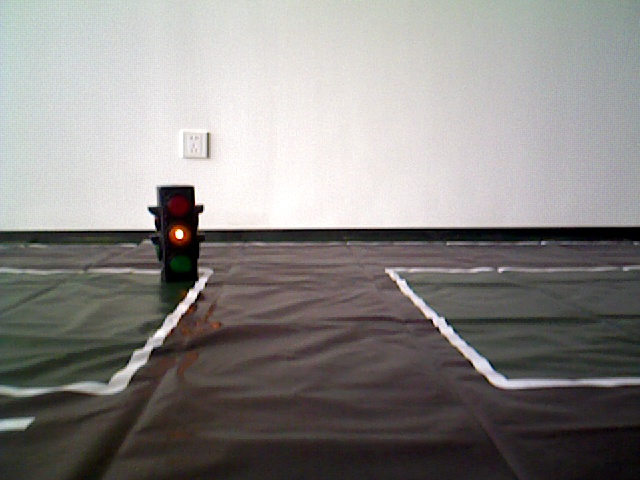yellow: (154, 184, 202, 276)
